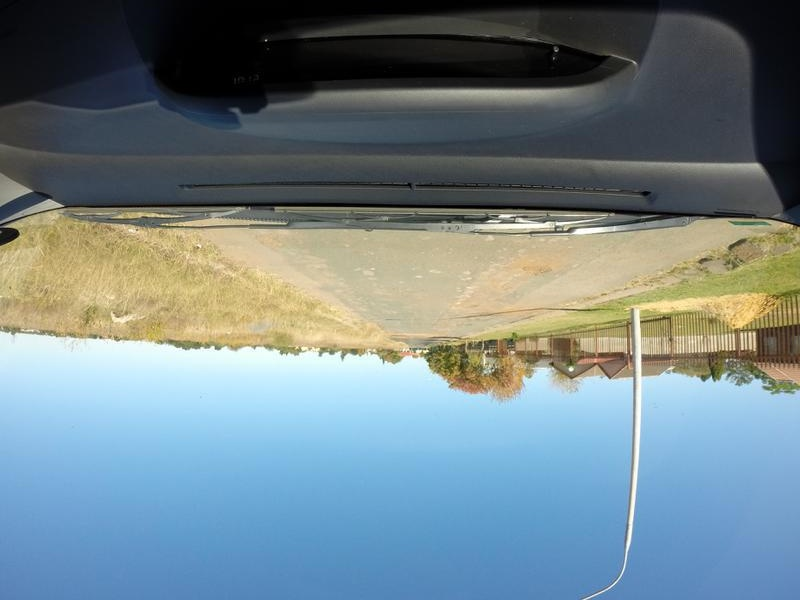pothole: (522, 260, 559, 274), (264, 232, 292, 249), (462, 309, 494, 322), (386, 316, 410, 321)
